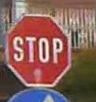stop: (3, 12, 71, 87)
